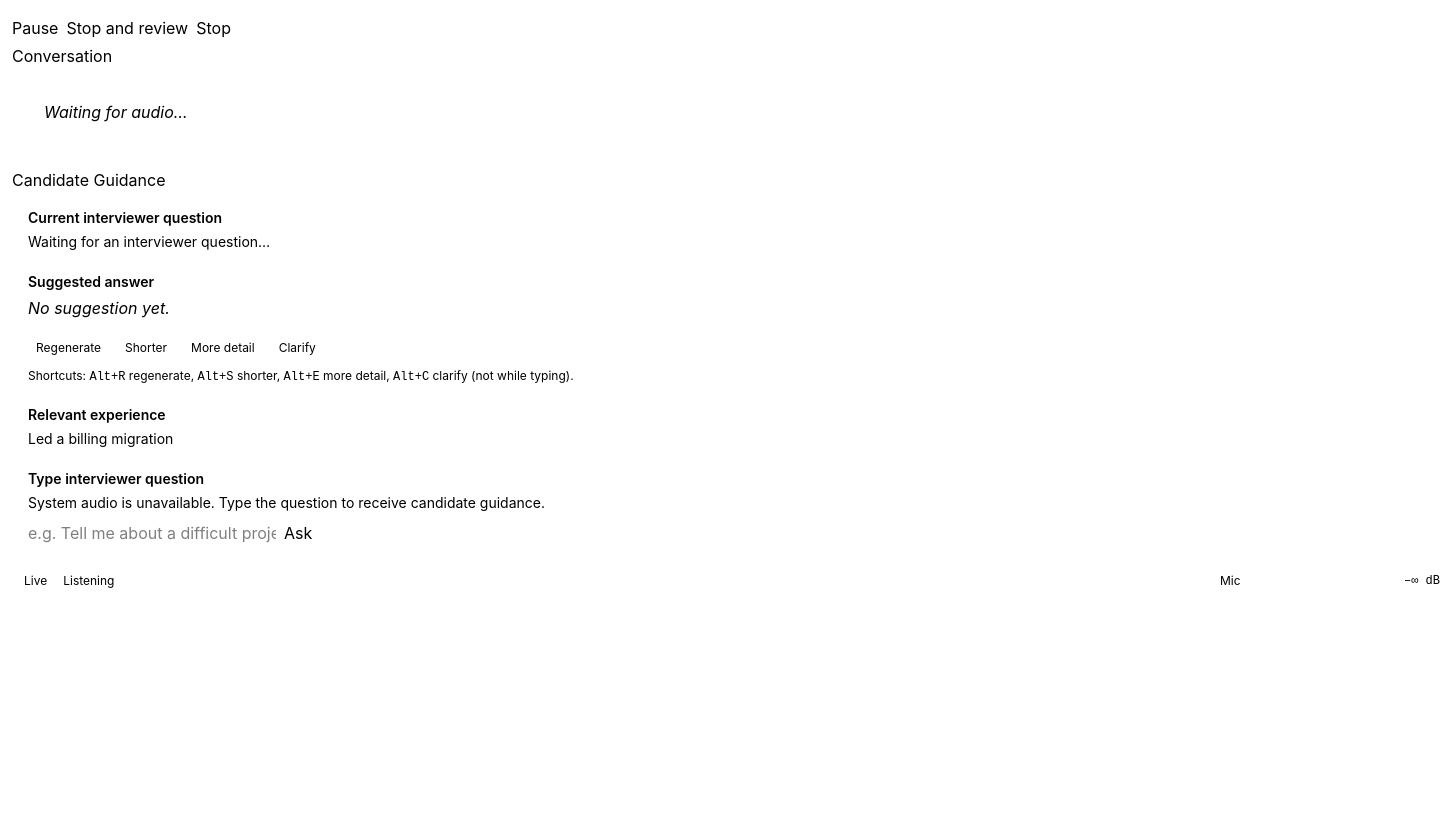
Scenario: Stop and review › reports a socket closed before the review arrived
Click the button "Stop and review" at (127, 28), box [66, 12, 188, 44]
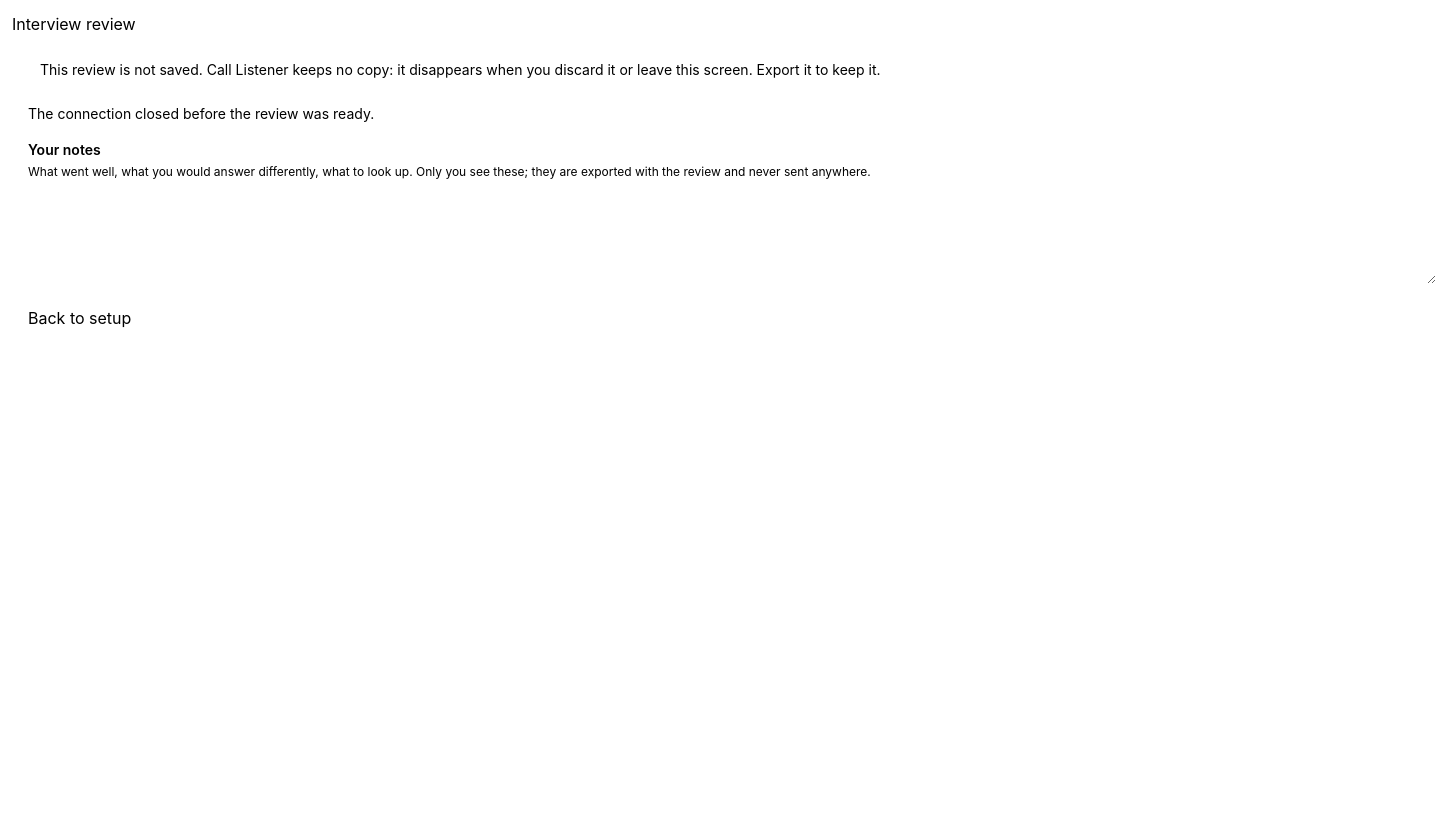
Expected: the message shows "connection closed before the review was ready", [28, 105, 374, 122]
